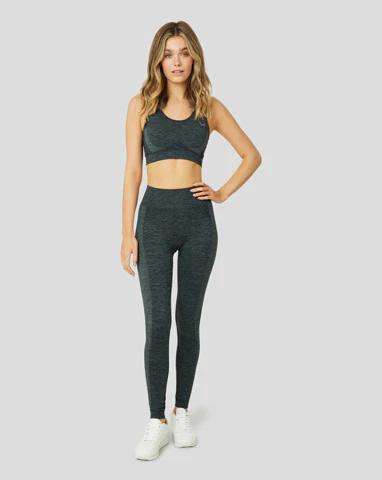trousers: (131, 184, 221, 421)
vest: (138, 91, 211, 166)
